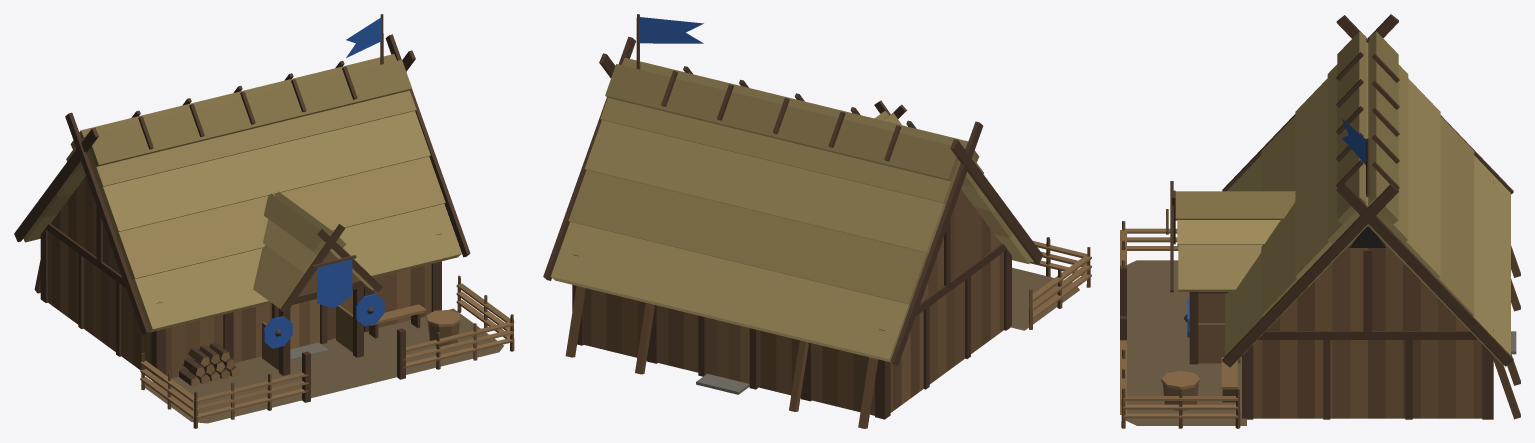
File: hall.glb
3 views of the same model, side by side, from view 1: azimuth 30°, elevation 25°; view 2: azimuth 150°, elevation 25°; view 3: azimuth 270°, elevation 25° (orthographic). The views are drawn at different scales.
Parts seen in each view (by area): view 1: hall; view 2: hall; view 3: hall.
Boxes of the visible parts, <box> form: hall: <box>14,14,514,428</box>; hall: <box>543,14,1091,428</box>; hall: <box>1120,14,1520,428</box>.
Size of the model in its own units: 9.22 by 7.09 by 9.11.
